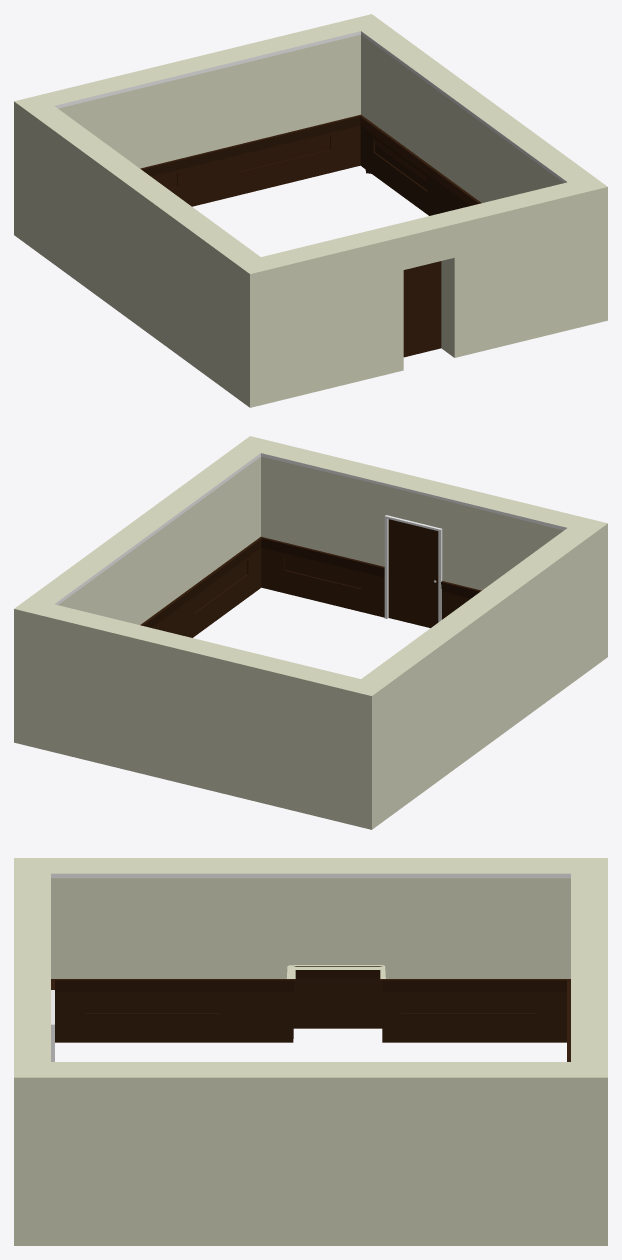
File: Walls.fbx
3 renders of one model, top to bottom at view 1: azimuth 30°, elevation 25°; view 2: azimuth 150°, elevation 25°; view 3: azimuth 270°, elevation 25°, orthographic. The views are drawn at different scales.
Visible parts, largest first — view 1: Walls, Door; view 2: Walls, Door; view 3: Walls.
Part boxes in pixels (x1,y1,x2,y2): Walls: (14,14,607,407); Door: (403,261,441,357); Walls: (14,436,607,829); Door: (388,519,438,627); Walls: (14,858,607,1245).
Size of the model in its own units: 1400 by 536 by 1600.
